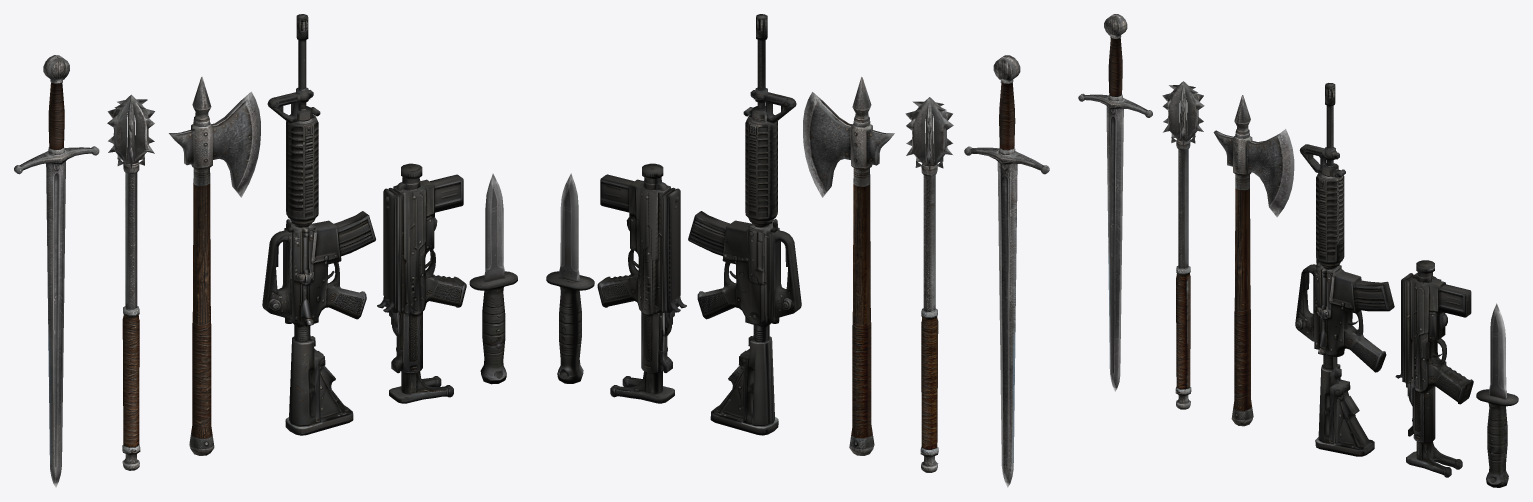
File: teutonic-weapons.glb
The picture shows the model from 3 angles, left to right: view 1: azimuth 30°, elevation 25°; view 2: azimuth 150°, elevation 25°; view 3: azimuth 330°, elevation 25°; orthographic projection. The views are drawn at different scales.
Parts seen in each view (by area): view 1: tripo_node_85e3586b-9a9c-402e-b087-22650c2bae2e; view 2: tripo_node_85e3586b-9a9c-402e-b087-22650c2bae2e; view 3: tripo_node_85e3586b-9a9c-402e-b087-22650c2bae2e.
Boxes of the visible parts, x1=… form: tripo_node_85e3586b-9a9c-402e-b087-22650c2bae2e: x1=14, y1=14, x2=517, y2=487; tripo_node_85e3586b-9a9c-402e-b087-22650c2bae2e: x1=546, y1=14, x2=1049, y2=487; tripo_node_85e3586b-9a9c-402e-b087-22650c2bae2e: x1=1078, y1=14, x2=1518, y2=487.
Bounding box in the file's own units: 0.9995 × 0.8237 × 0.0854.
1 material, 1 textured.
